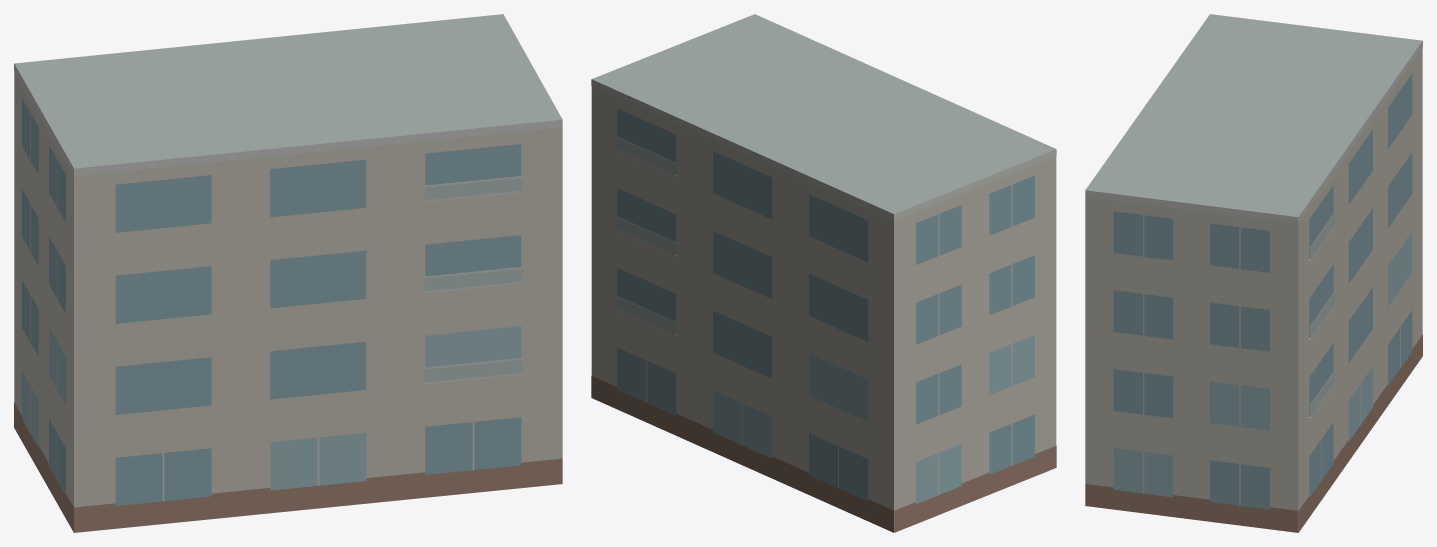
Rendered from survey-upis-32872737.glb.
3 renders of one model, left to right at view 1: azimuth 30°, elevation 25°; view 2: azimuth 150°, elevation 25°; view 3: azimuth 270°, elevation 25°, orthographic. The views are drawn at different scales.
Visible parts, largest first — view 1: survey-upis-32872737.tmp; view 2: survey-upis-32872737.tmp; view 3: survey-upis-32872737.tmp.
Boxes of the visible parts, box(x1,y1,x2,y2) form: survey-upis-32872737.tmp: box(14, 14, 562, 532); survey-upis-32872737.tmp: box(591, 14, 1056, 532); survey-upis-32872737.tmp: box(1085, 14, 1422, 532).
Size of the model in its own units: 15.88 by 11.5 by 11.15.
